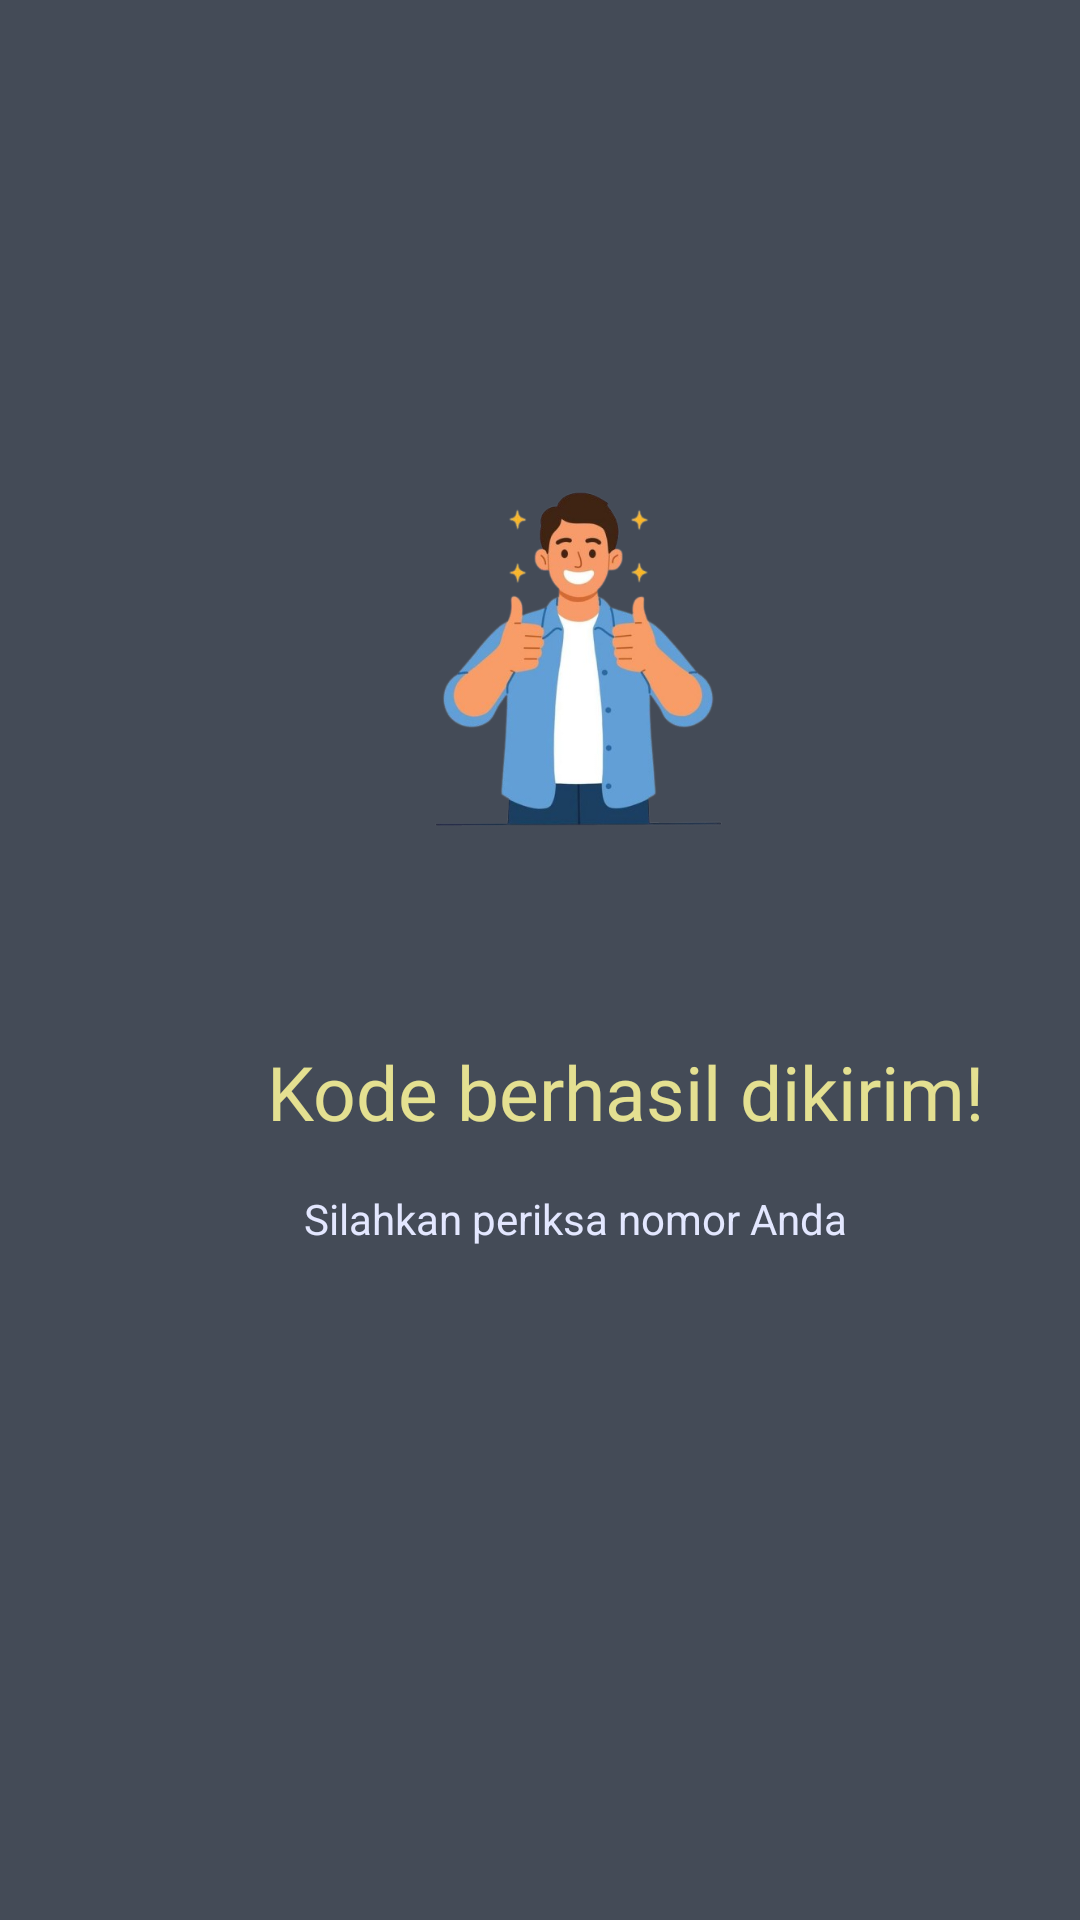

Where to tap for icons on this 1080w x 1920h app screen, as (x=x, y=y):
success: (x=578, y=659)
